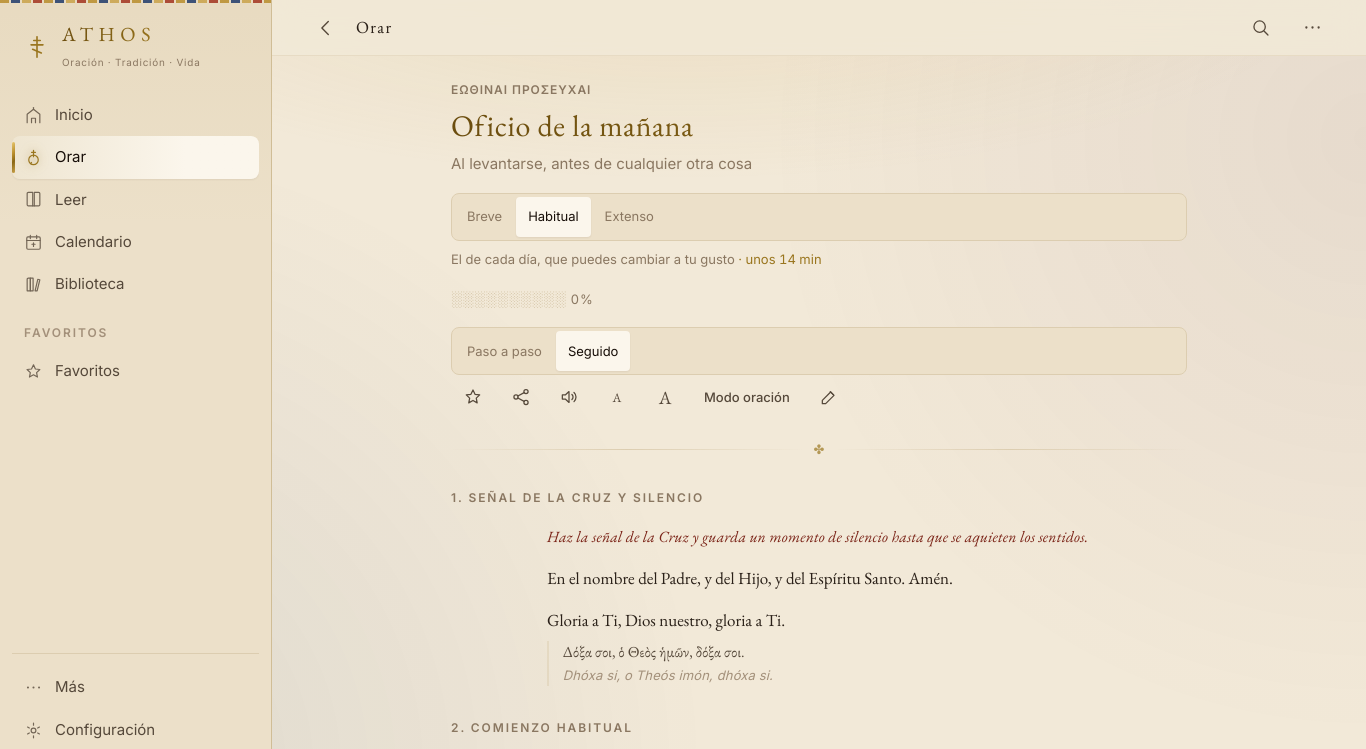
Test case: dentro del oficio › cambiar a la extensa la guarda para ese oficio y enseña la Hora Primera
This screenshot has width=1366, height=749.
Click the button "Extenso". click: (629,217)
box: [593,197,666,237]
(page scrolled)
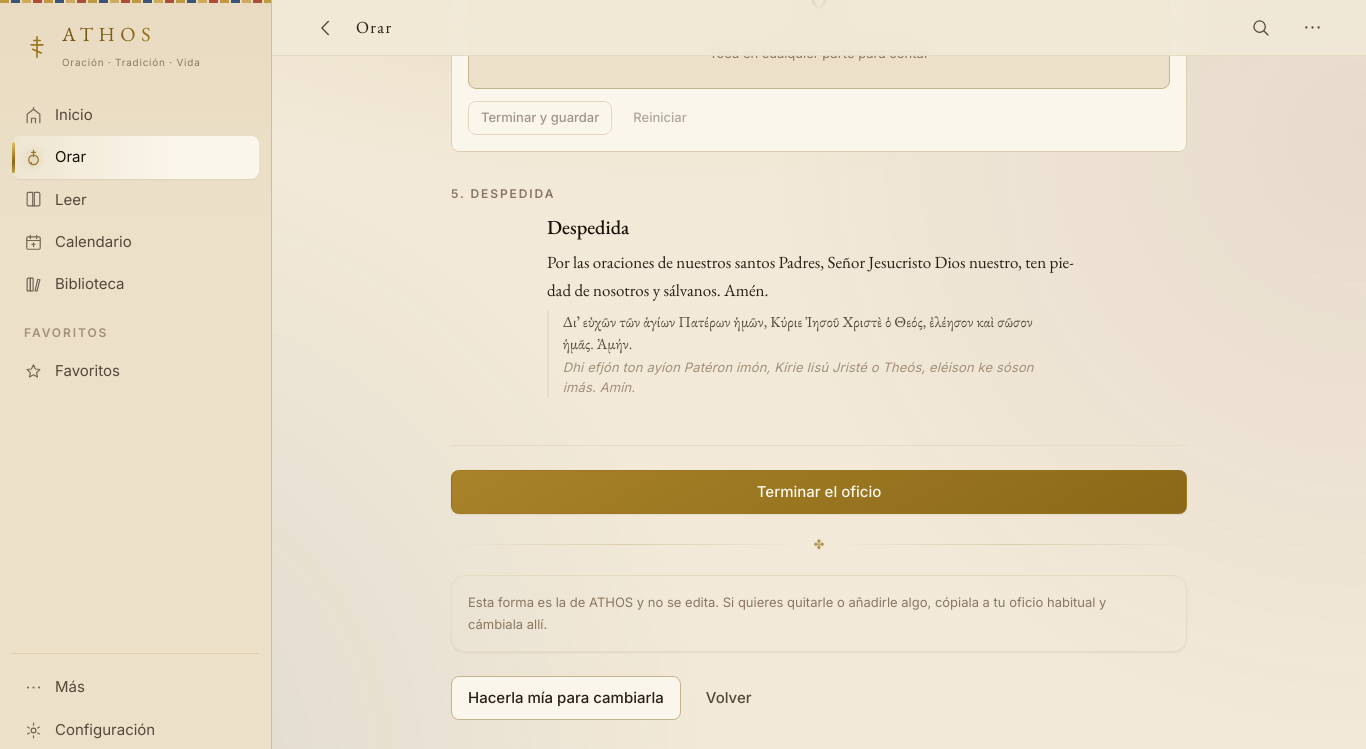
expect the button "Hacerla mía para cambiarla" is shown: met, box [451,676,681,720]
